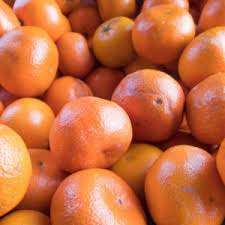orange: (50, 94, 133, 172), (49, 171, 148, 225), (111, 69, 185, 138), (1, 25, 60, 97), (131, 8, 196, 61)
